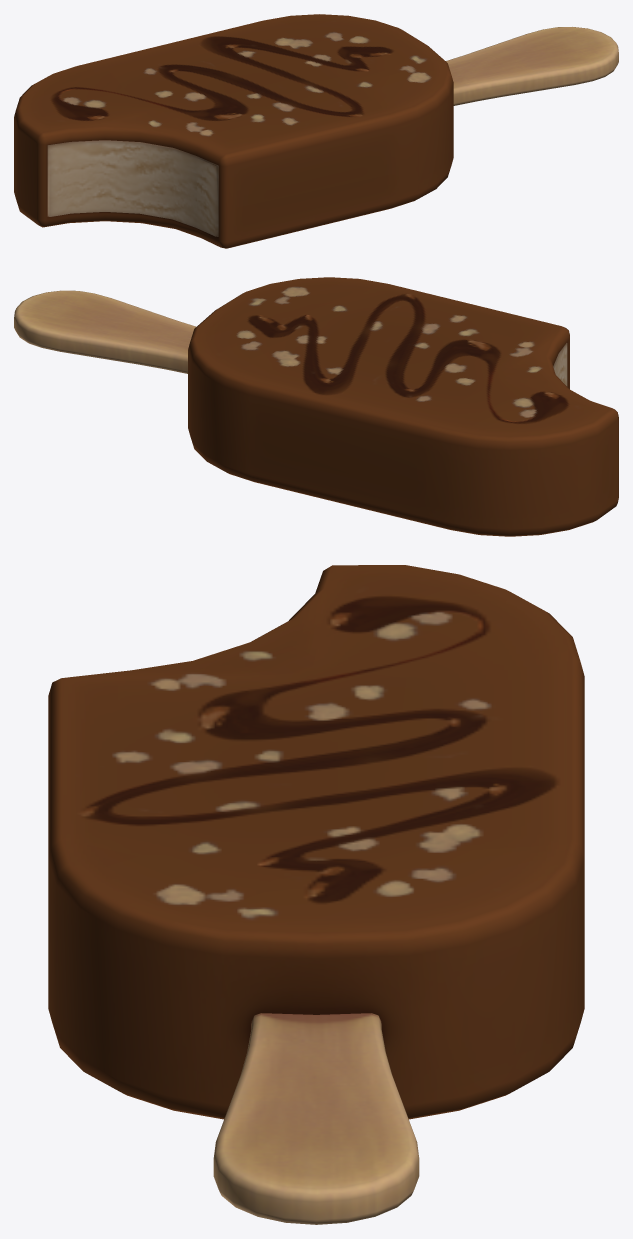
The model's file is StackUp_Icecream.fbx.
3 renders of one model, top to bottom at view 1: azimuth 30°, elevation 25°; view 2: azimuth 150°, elevation 25°; view 3: azimuth 270°, elevation 25°, orthographic. The views are drawn at different scales.
Visible parts, largest first — view 1: StackUp_Icecream; view 2: StackUp_Icecream; view 3: StackUp_Icecream.
Part boxes in pixels (x1,y1,x2,y2): StackUp_Icecream: (14, 14, 618, 248); StackUp_Icecream: (14, 277, 618, 536); StackUp_Icecream: (48, 565, 584, 1224).
Bounding box in the file's own units: 23.58 × 3.75 × 9.58.
